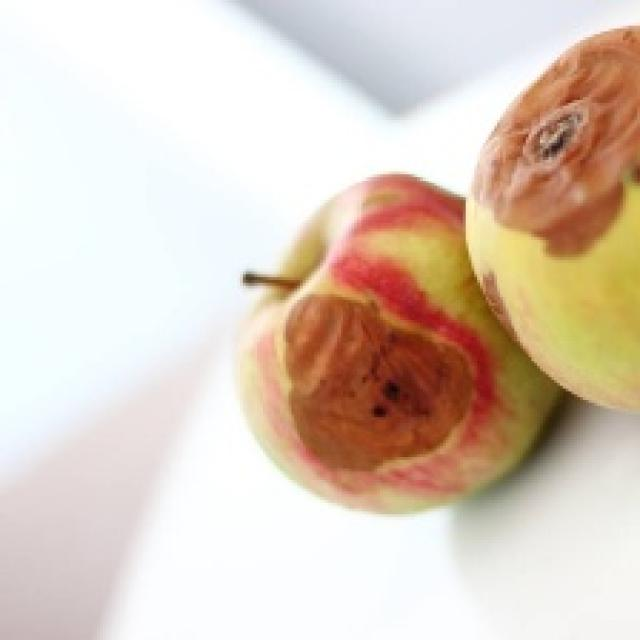rotten_apple: (233, 175, 472, 521), (471, 30, 640, 411)
